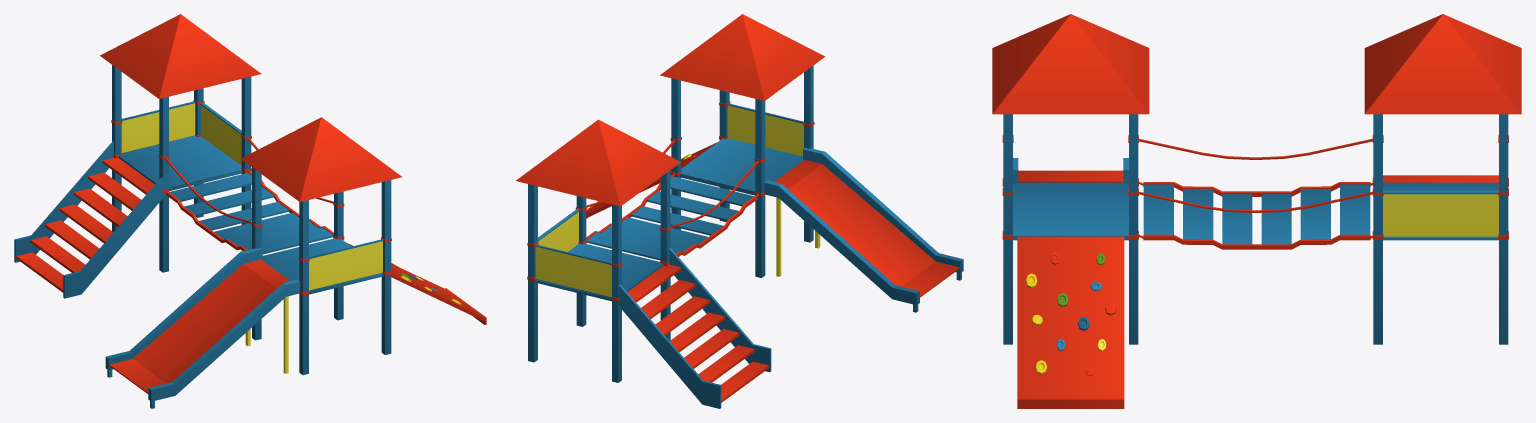
Rendered from Playground.fbx.
3 views of the same model, side by side, from view 1: azimuth 30°, elevation 25°; view 2: azimuth 150°, elevation 25°; view 3: azimuth 270°, elevation 25° (orthographic). The views are drawn at different scales.
Visible parts, largest first — view 1: PlayGround_LOD0; view 2: PlayGround_LOD0; view 3: PlayGround_LOD0.
Part boxes in pixels (left/top/right/bottom): PlayGround_LOD0: left=14, top=14, right=486, bottom=408; PlayGround_LOD0: left=516, top=14, right=963, bottom=408; PlayGround_LOD0: left=992, top=14, right=1521, bottom=408.
Size of what is drawn, in the model's own units: 851 by 555 by 873.
